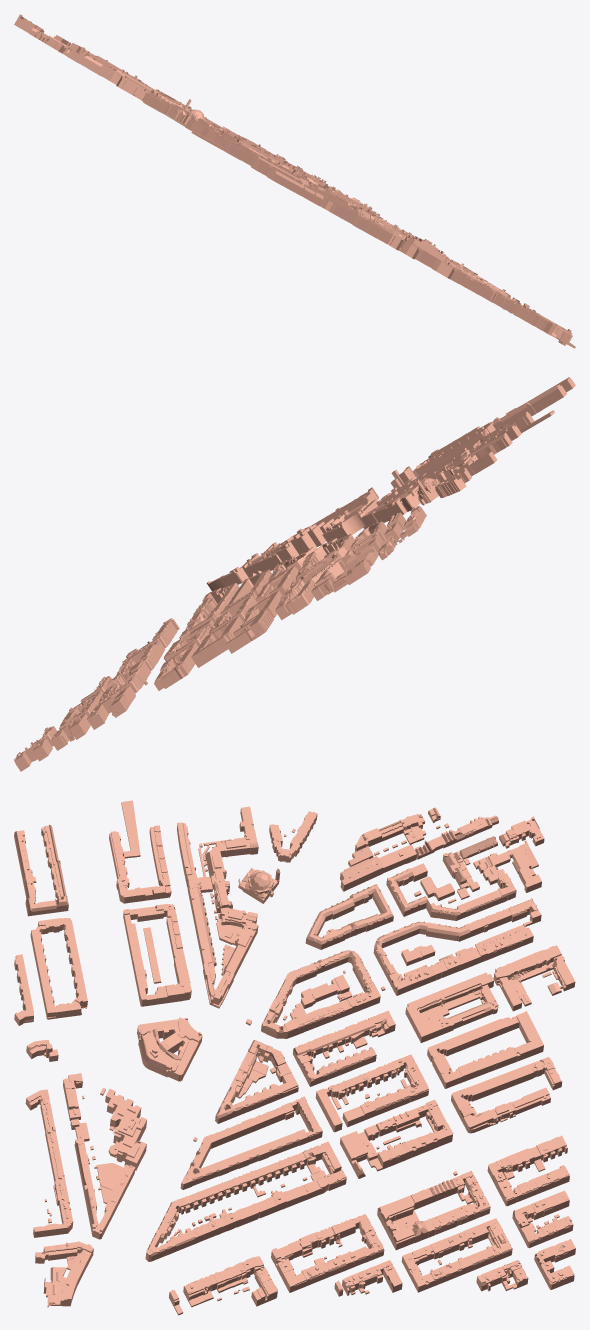
The picture shows the model from 3 angles, top to bottom: view 1: azimuth 30°, elevation 25°; view 2: azimuth 150°, elevation 25°; view 3: azimuth 270°, elevation 25°; orthographic projection. The views are drawn at different scales.
Bounding box in the file's own units: 1.74e+07 × 1.31e+07 × 2.07e+07.
